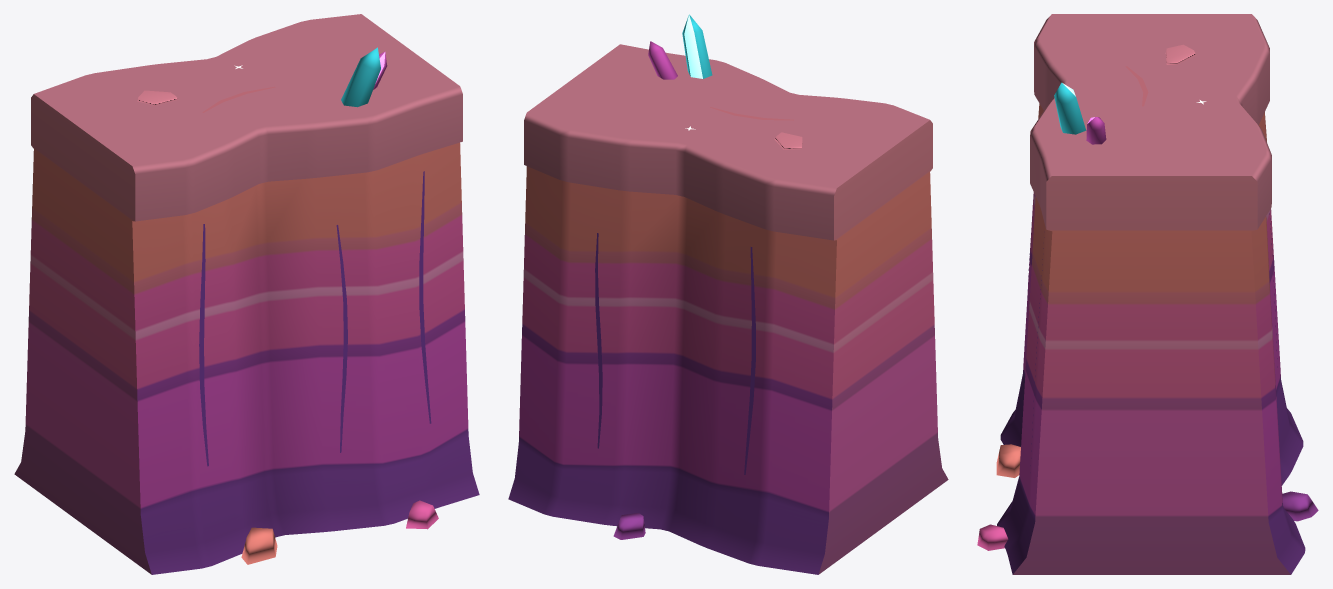
Rendered from mesa_cliff.glb.
3 renders of one model, left to right at view 1: azimuth 30°, elevation 25°; view 2: azimuth 150°, elevation 25°; view 3: azimuth 270°, elevation 25°, orthographic. The views are drawn at different scales.
Visible parts, largest first — view 1: MesaCliff.001; view 2: MesaCliff.001; view 3: MesaCliff.001.
Boxes of the visible parts, <box> form: MesaCliff.001: <box>14,14,479,574</box>; MesaCliff.001: <box>508,14,948,574</box>; MesaCliff.001: <box>977,14,1318,574</box>.
Size of the model in its own units: 2 by 2.65 by 1.78.
